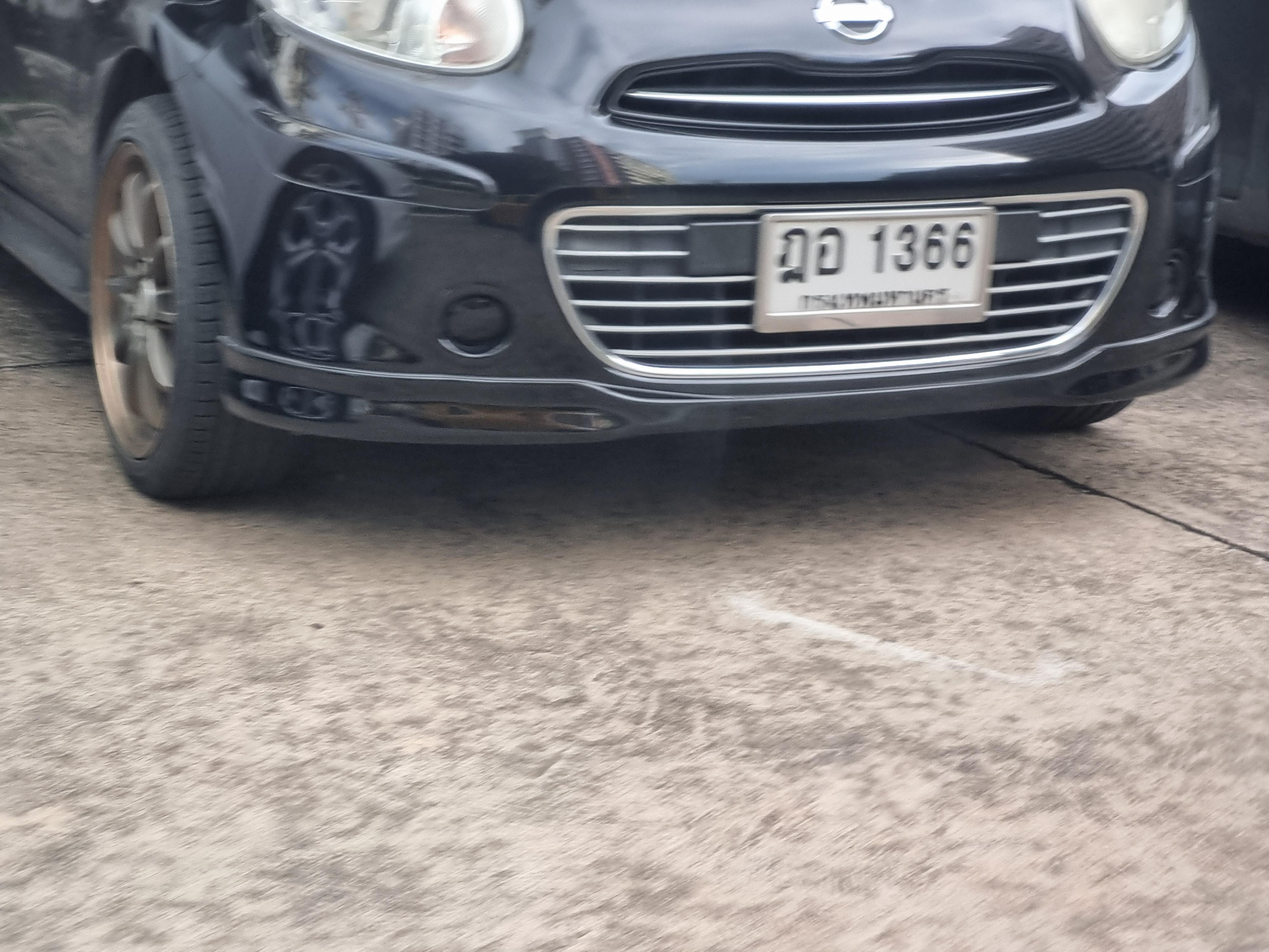license-plate: (759, 206, 992, 323)
